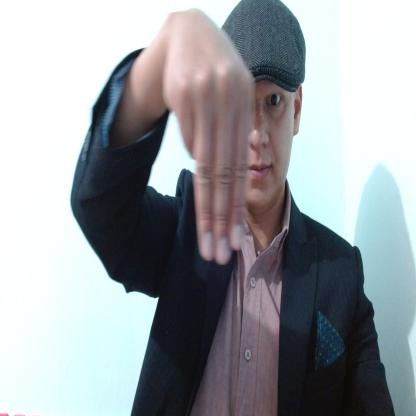M: (162, 11, 257, 266)
